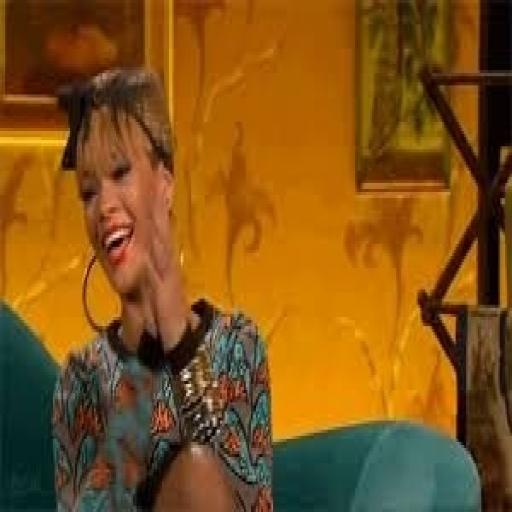clapping: (49, 61, 275, 509)
